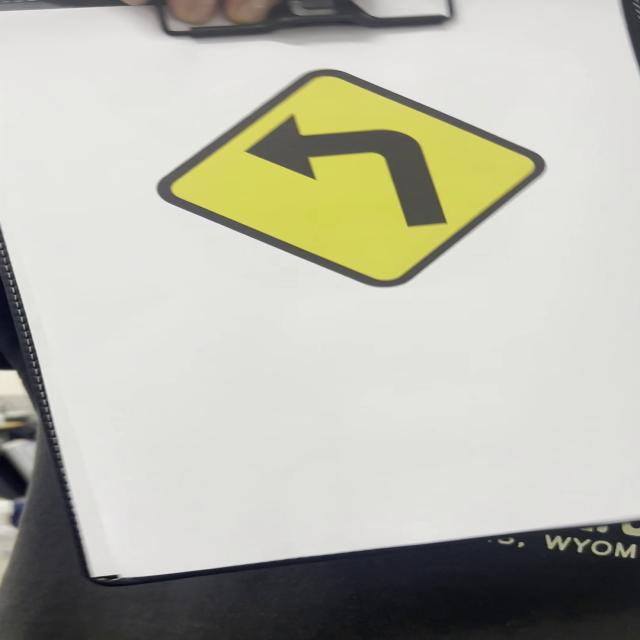left: (167, 70, 556, 289)
